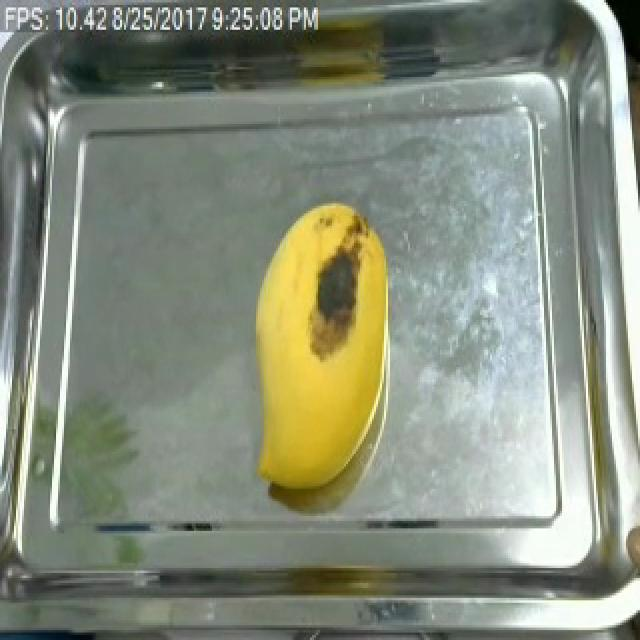fruit: (240, 196, 402, 504)
